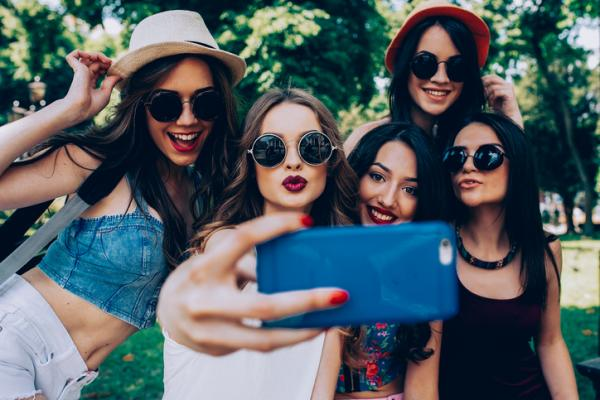person: (67, 18, 226, 230), (419, 103, 570, 320), (221, 86, 356, 235), (367, 12, 508, 133)
